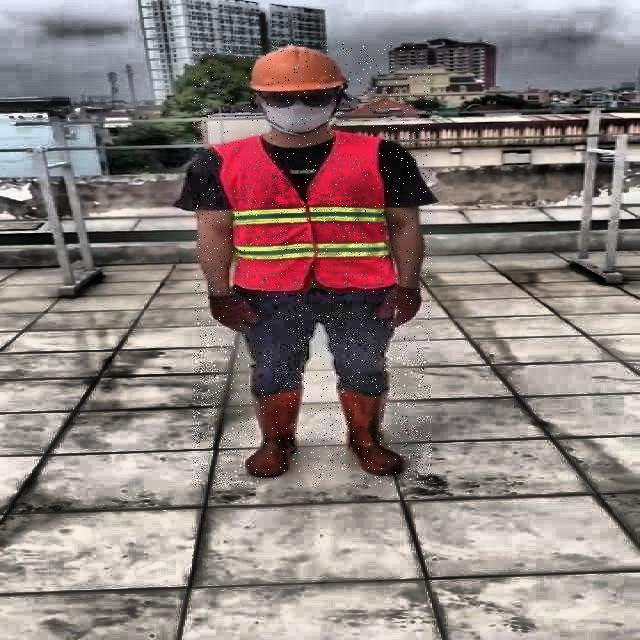safety_helmet: (245, 44, 348, 92)
safety_jacket: (221, 136, 391, 289)
